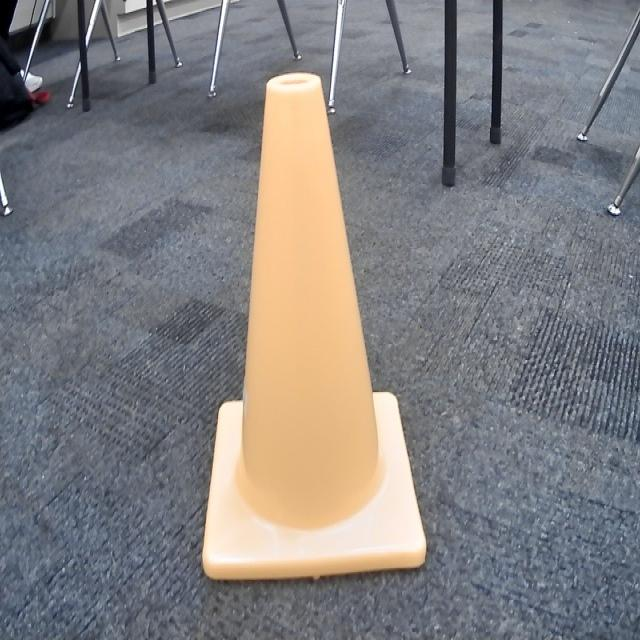cone: (202, 71, 428, 582)
